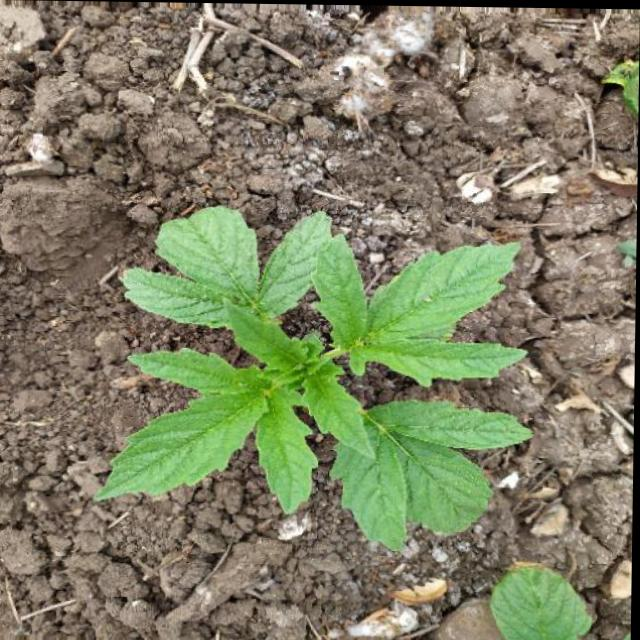crop: (107, 202, 534, 546)
